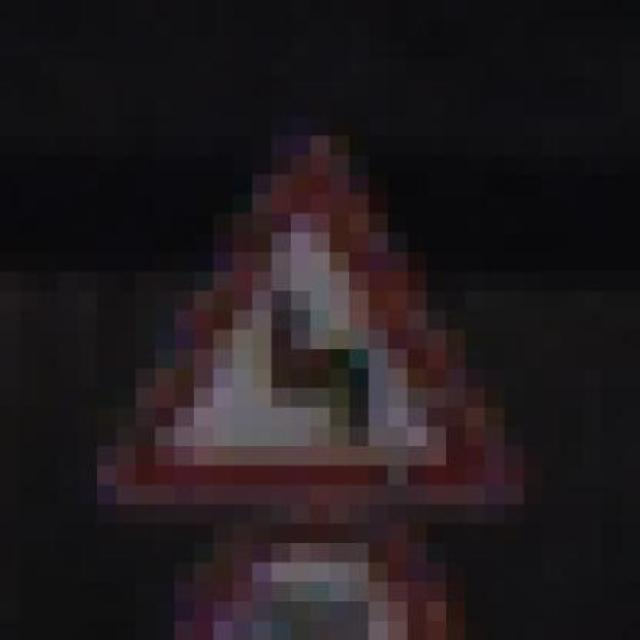Left Zig Zag Traffic: (59, 116, 543, 524)
